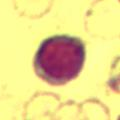lymphocyte: (32, 31, 92, 87)
